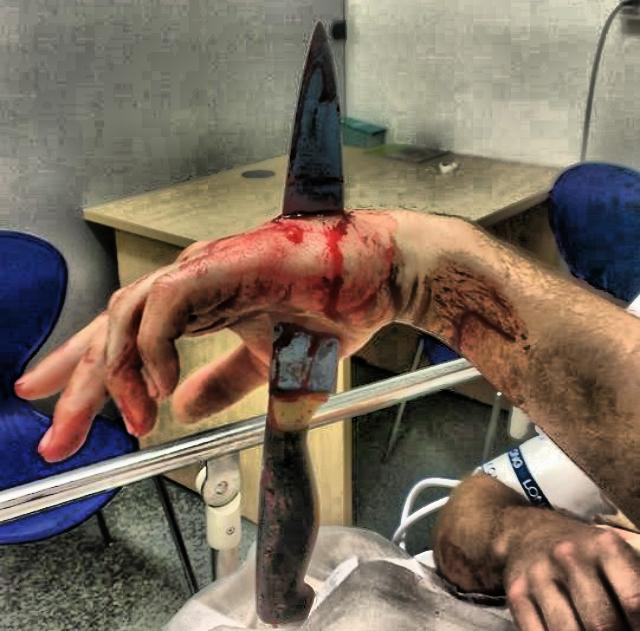knife: (214, 14, 352, 410)
